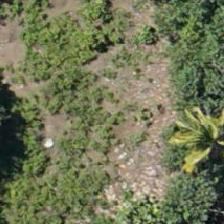coconut_tree: (164, 96, 223, 186)
